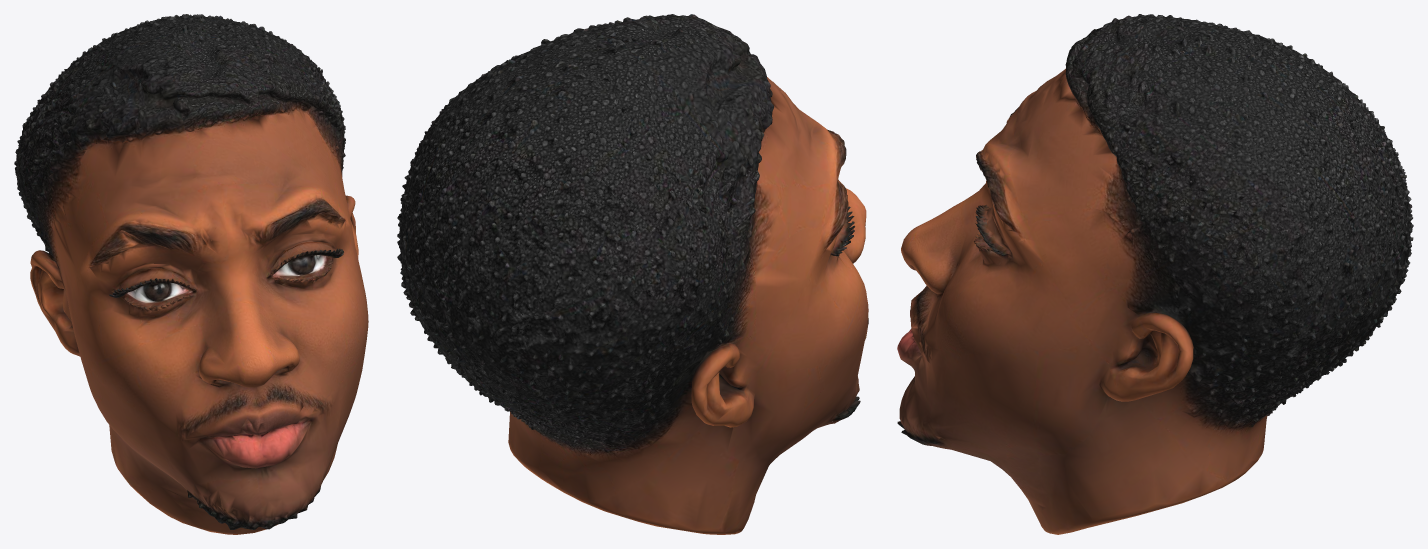
The model's file is realistic-head-opt.glb.
The picture shows the model from 3 angles, left to right: view 1: azimuth 30°, elevation 25°; view 2: azimuth 150°, elevation 25°; view 3: azimuth 270°, elevation 25°; orthographic projection. The views are drawn at different scales.
Parts seen in each view (by area): view 1: tripo_node_a264185b-5e4a-42fb-8749-524670f635f5; view 2: tripo_node_a264185b-5e4a-42fb-8749-524670f635f5; view 3: tripo_node_a264185b-5e4a-42fb-8749-524670f635f5.
Part boxes in pixels (left/top/right/bottom): tripo_node_a264185b-5e4a-42fb-8749-524670f635f5: left=14, top=14, right=368, bottom=534; tripo_node_a264185b-5e4a-42fb-8749-524670f635f5: left=397, top=14, right=868, bottom=534; tripo_node_a264185b-5e4a-42fb-8749-524670f635f5: left=897, top=14, right=1413, bottom=534.
Size of the model in its own units: 0.6519 by 0.9369 by 0.8893.
1 material, 1 textured.
